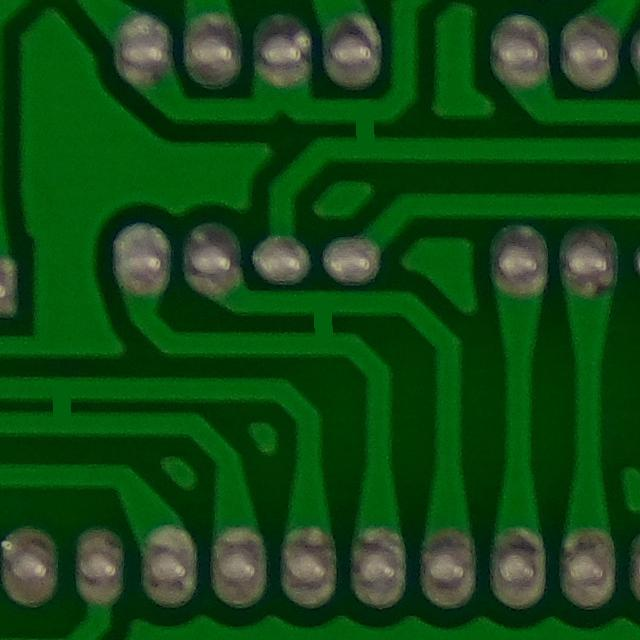short: (267, 280, 374, 361)
